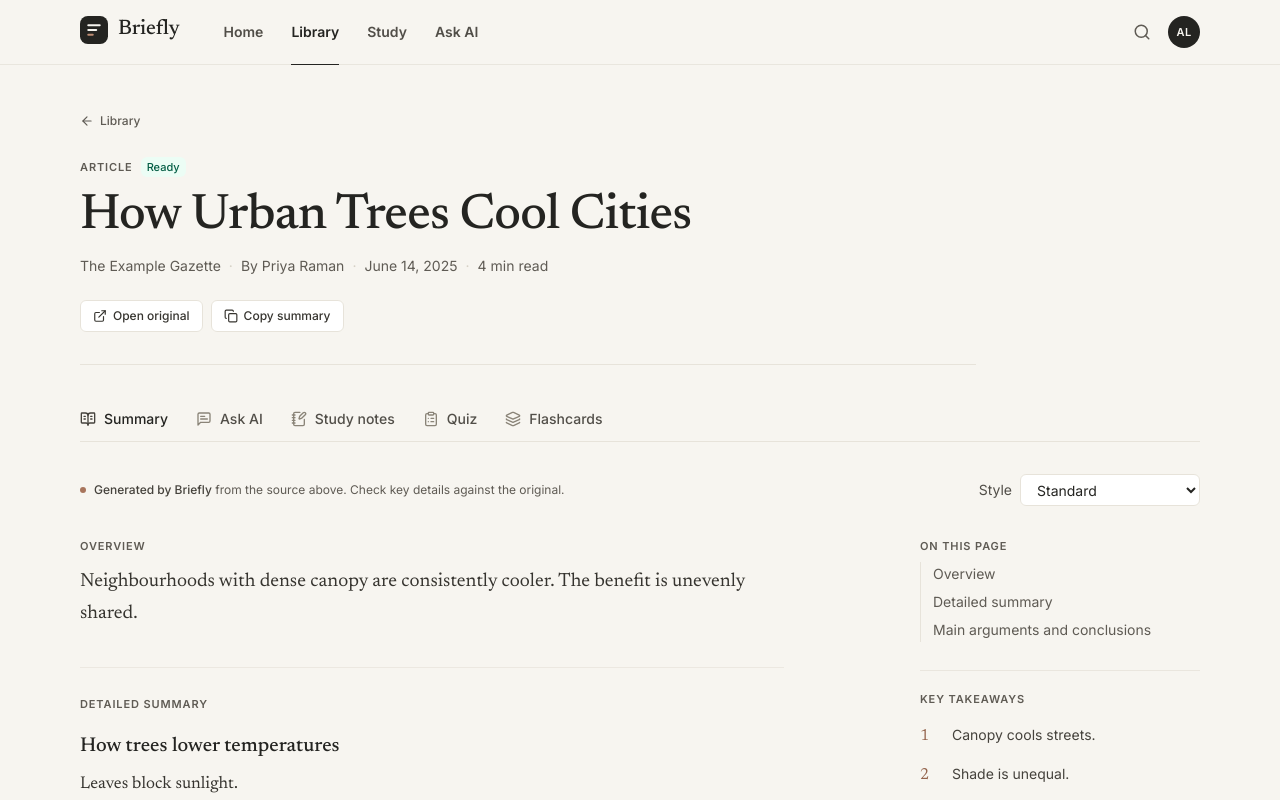
Test: Summary detail page › copies the summary as Markdown
Click the button "Copy summary": coordinates (277, 316) [211,300,344,332]
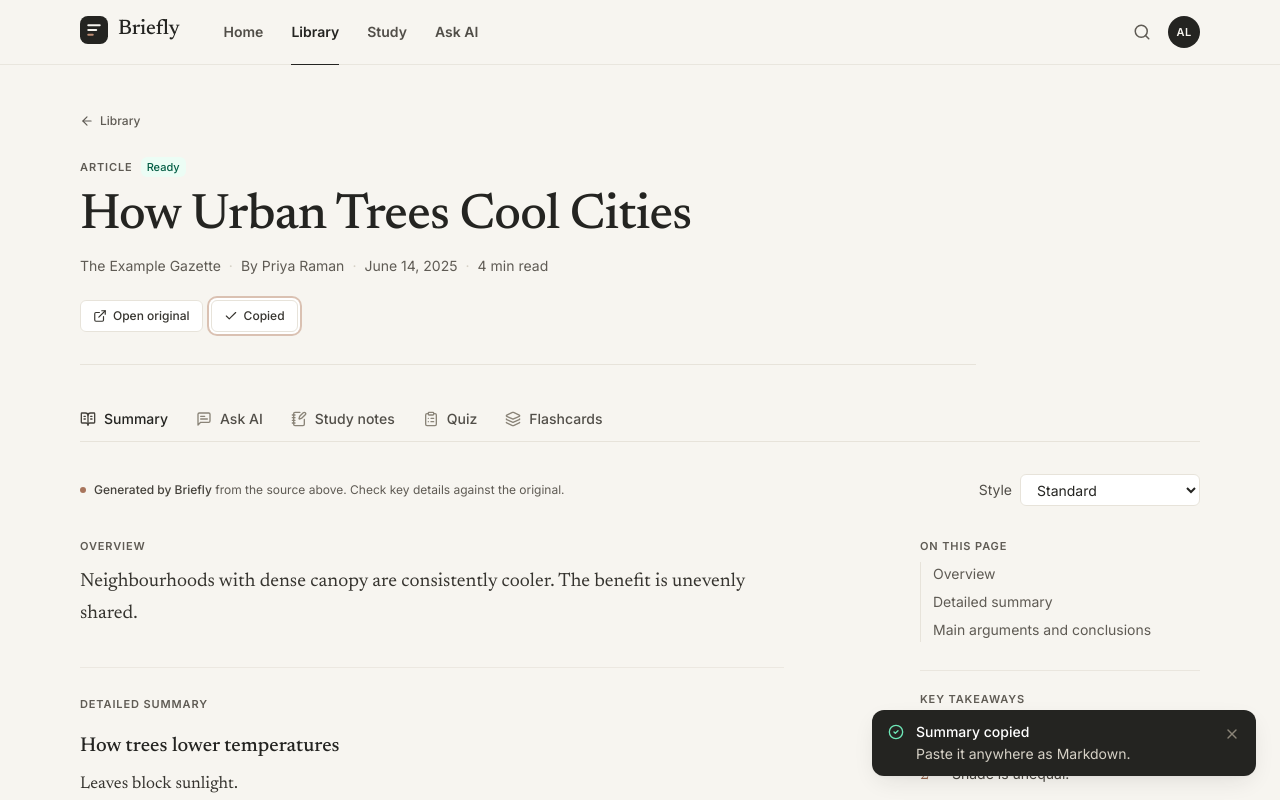
Check: the text "Summary copied" is shown, box [916,723,1029,740]
